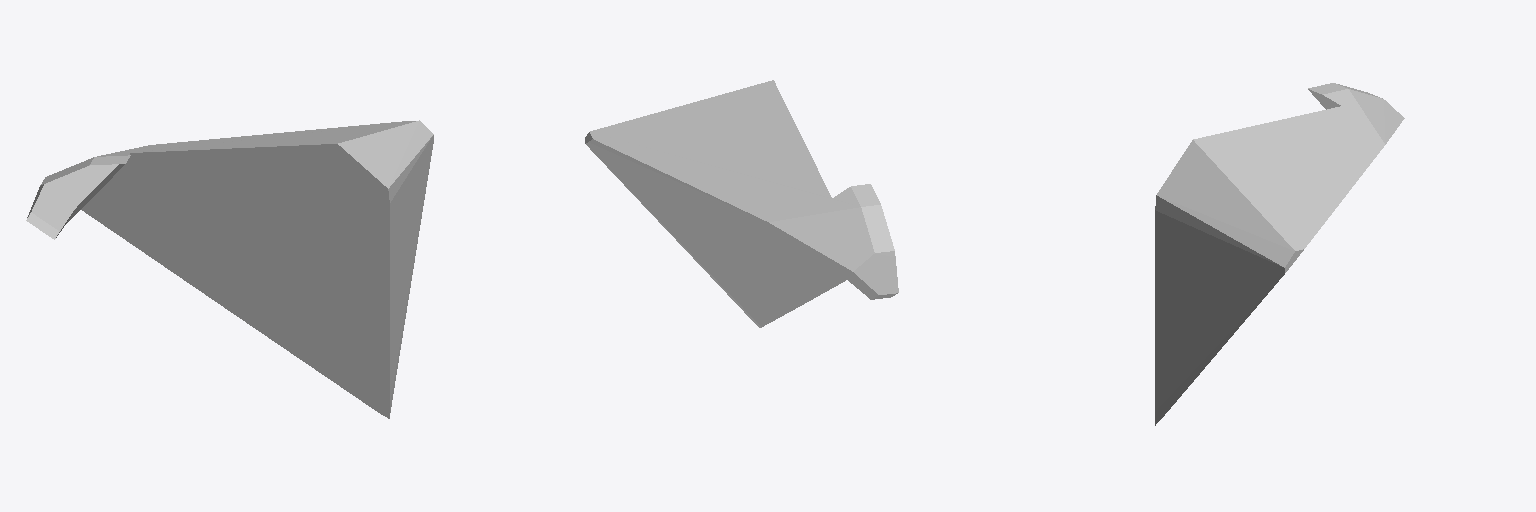
Rendered from li-fang-ti-.001_cell.145.obj.
The picture shows the model from 3 angles: view 1: azimuth 30°, elevation 25°; view 2: azimuth 150°, elevation 25°; view 3: azimuth 270°, elevation 25°; orthographic projection.
Parts seen in each view (by area): view 1: 立方体.001_cell.145; view 2: 立方体.001_cell.145; view 3: 立方体.001_cell.145.
Boxes of the visible parts, <box> form: 立方体.001_cell.145: <box>26,120,433,418</box>; 立方体.001_cell.145: <box>585,80,898,327</box>; 立方体.001_cell.145: <box>1155,83,1404,425</box>.
Bounding box in the file's own units: 0.6378 × 0.4556 × 0.3821.